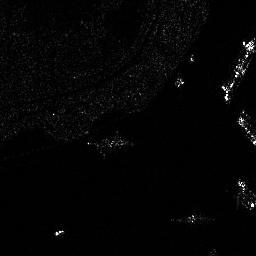ship: (223, 39, 255, 101), (238, 115, 256, 144)
